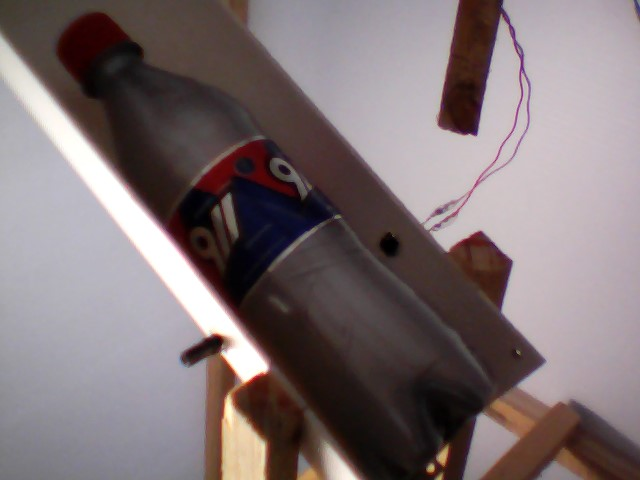plastico: (49, 6, 503, 480)
